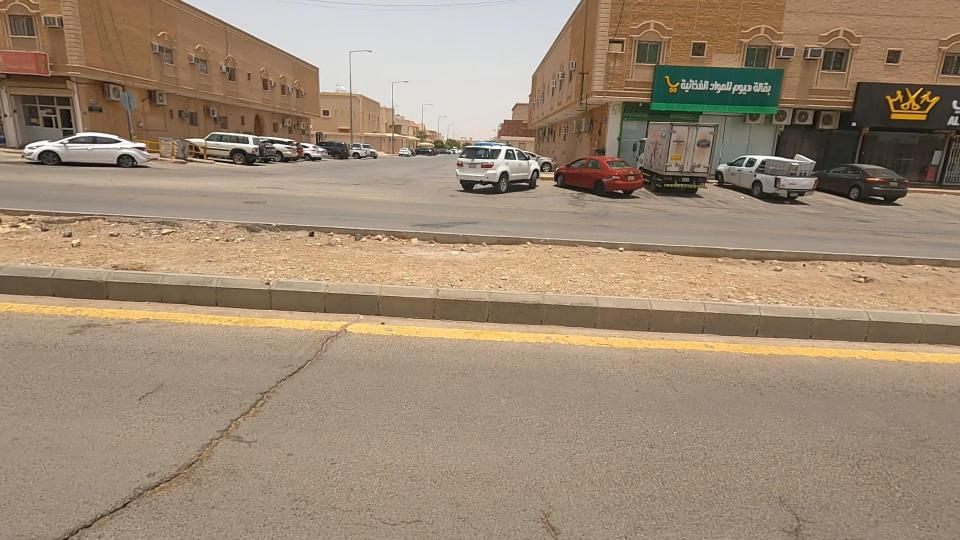CLUTTER_SIDEWALK: (231, 190, 955, 345), (0, 161, 504, 354)
